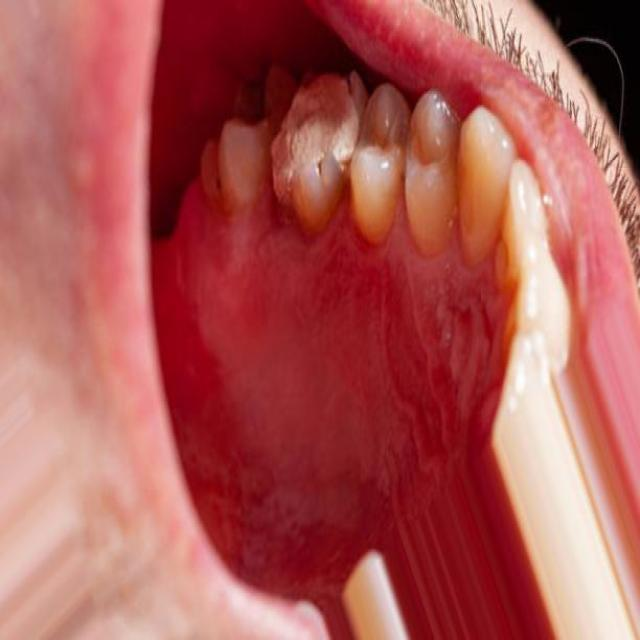caries: (264, 67, 368, 215)
